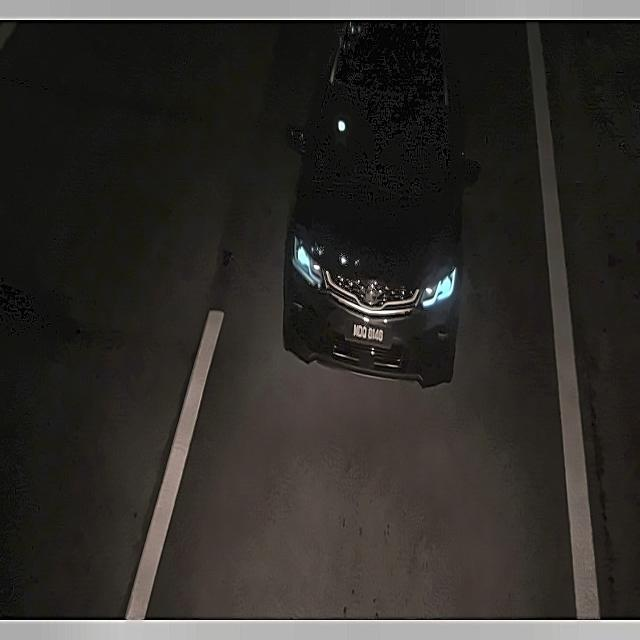car: (345, 310, 392, 357)
